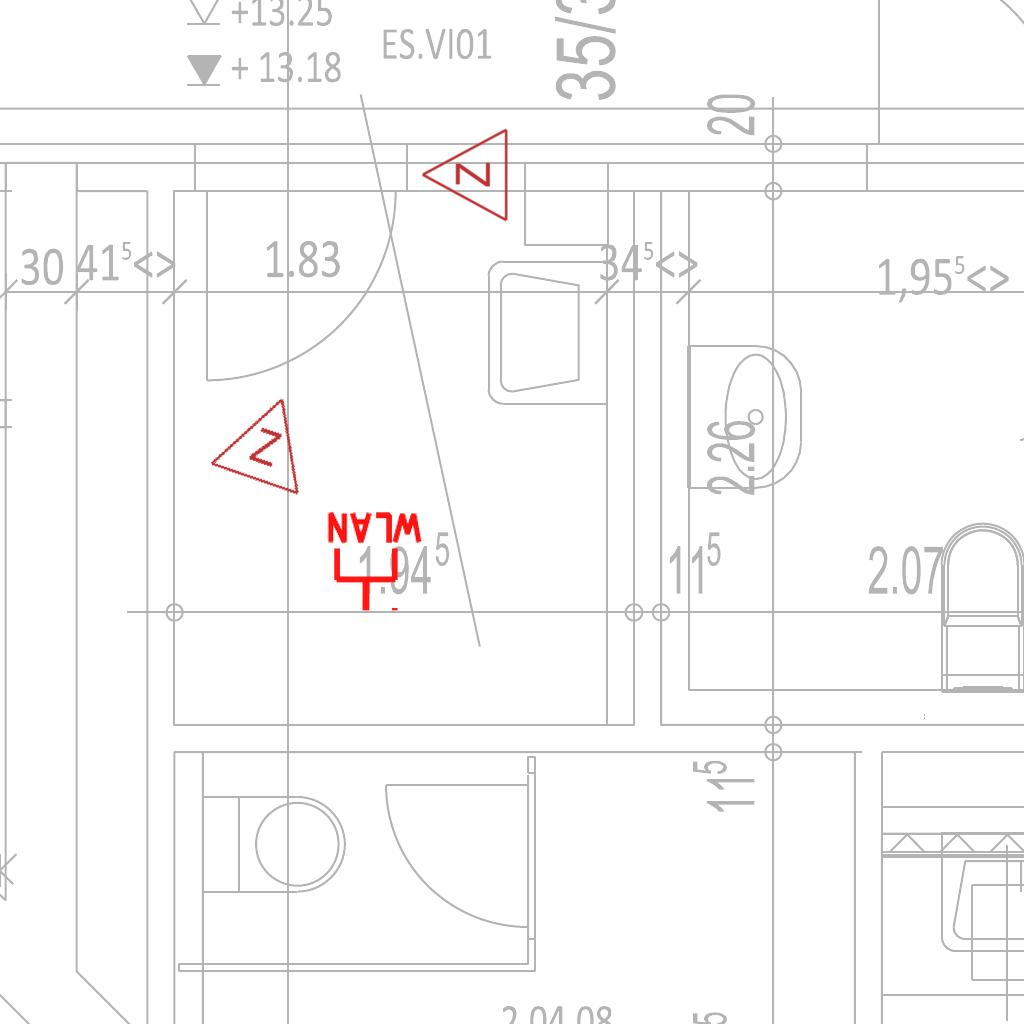WLAN: (323, 510, 427, 615)
Zimmersignalleuchte: (204, 375, 330, 503), (415, 127, 515, 225)
